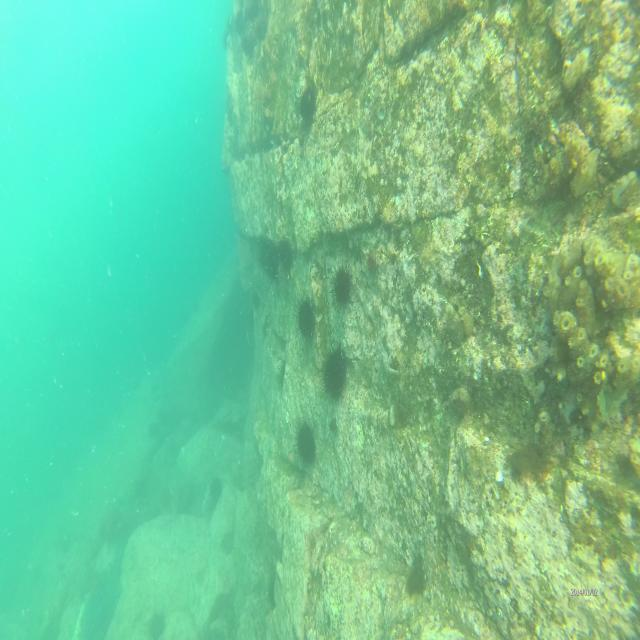echinus: (322, 344, 348, 403), (293, 422, 323, 472), (330, 264, 355, 316), (294, 294, 318, 340), (296, 84, 318, 124), (276, 234, 294, 269)
